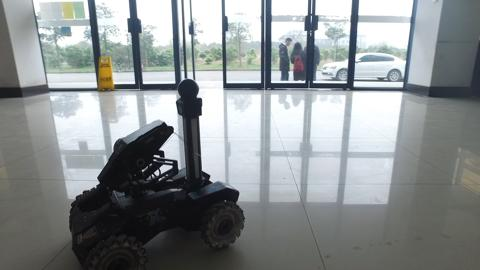chariot: (60, 74, 254, 270)
